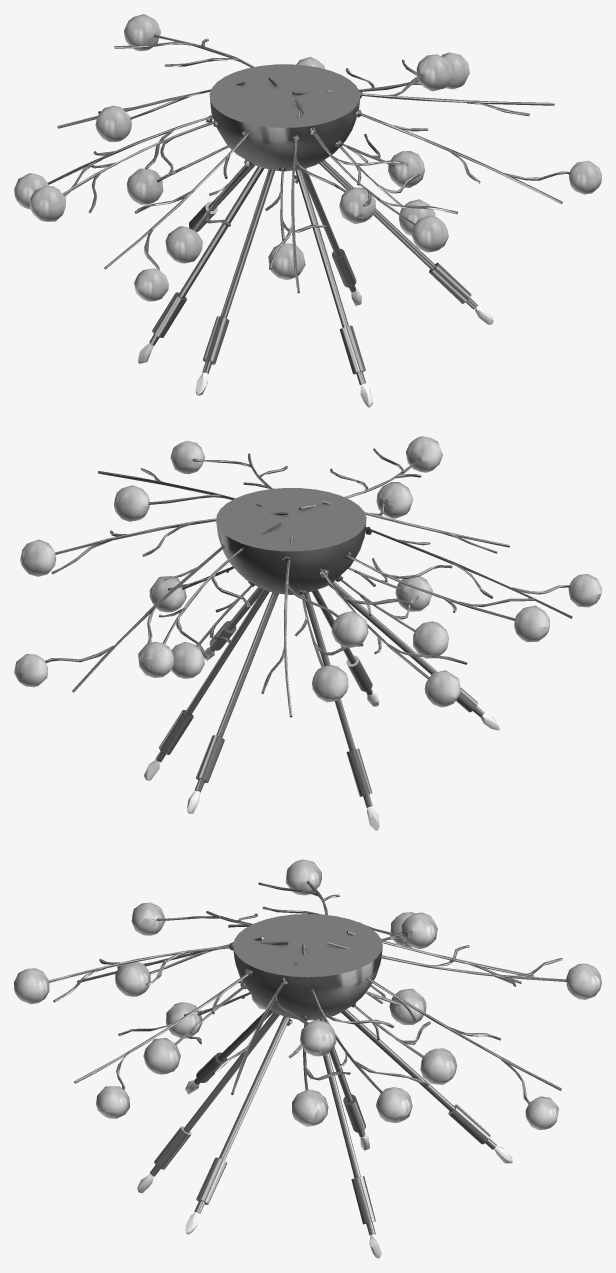
The model's file is raw_model.obj.
The picture shows the model from 3 angles, top to bottom: view 1: azimuth 30°, elevation 25°; view 2: azimuth 150°, elevation 25°; view 3: azimuth 270°, elevation 25°; orthographic projection.
Visible parts, largest first — view 1: solid_002, solid_003, lightmesh_16265; view 2: solid_002, solid_003, lightmesh_16265; view 3: solid_002, solid_003, lightmesh_16265.
Part boxes in pixels (x1=…): solid_002: x1=48, y1=34, x2=569, y2=384; solid_003: x1=14, y1=14, x2=601, y2=301; lightmesh_16265: x1=138, y1=289, x2=493, y2=407; solid_002: x1=45, y1=448, x2=572, y2=807; solid_003: x1=14, y1=436, x2=601, y2=707; lightmesh_16265: x1=144, y1=647, x2=499, y2=830; solid_002: x1=48, y1=881, x2=567, y2=1235; solid_003: x1=14, y1=859, x2=601, y2=1130; lightmesh_16265: x1=137, y1=1080, x2=512, y2=1258.
Bounding box in the file's own units: 0.4043 × 0.2116 × 0.4267.
1 material, 1 textured.
